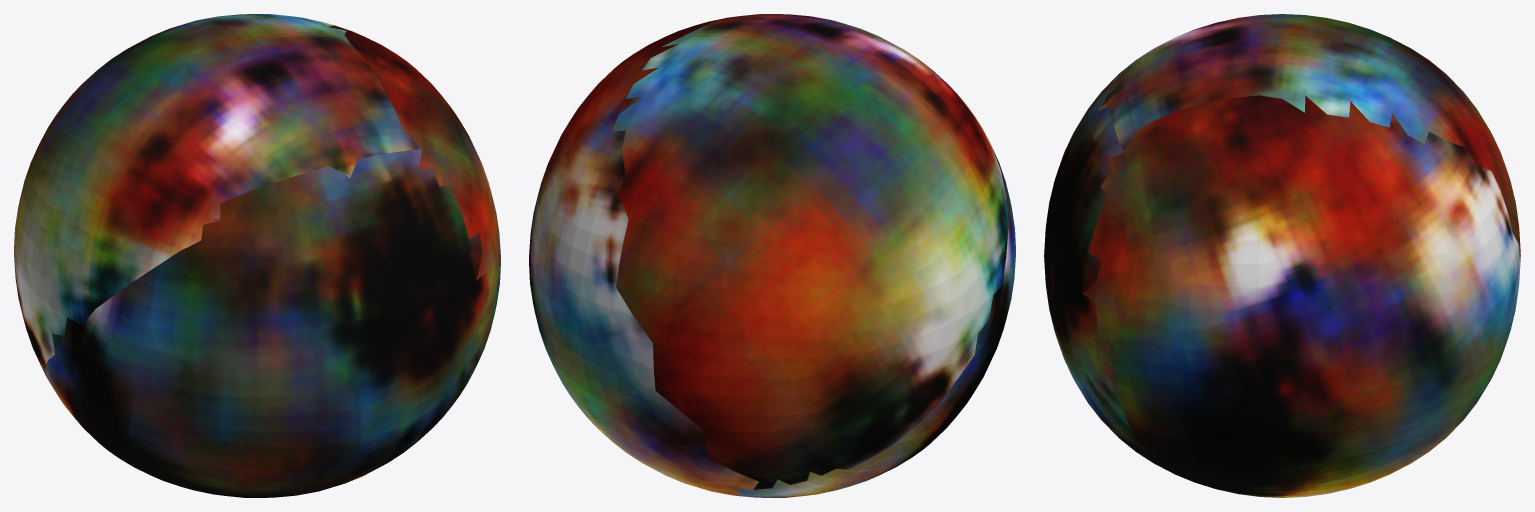
Rendered from sphere_voronoi.obj.
The picture shows the model from 3 angles, left to right: view 1: azimuth 30°, elevation 25°; view 2: azimuth 150°, elevation 25°; view 3: azimuth 270°, elevation 25°; orthographic projection.
Size of the model in its own units: 0.8984 by 0.8984 by 0.8984.
Materials: 1 (1 with a texture image).
